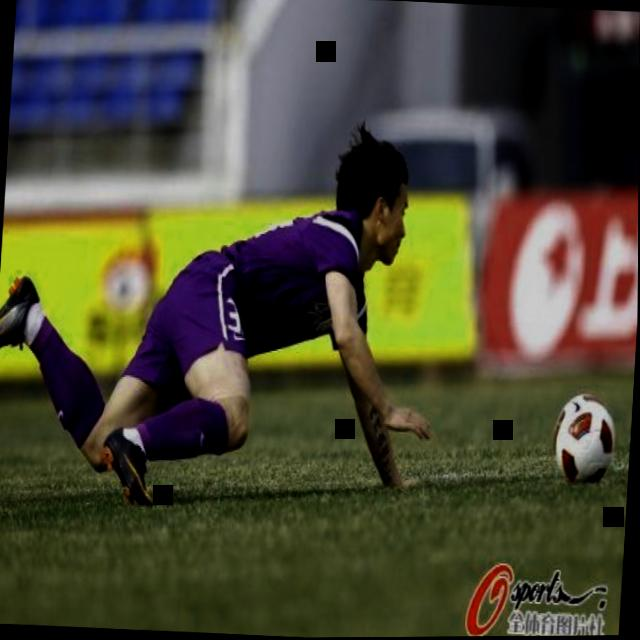Fall-Detected: (0, 92, 445, 529)
